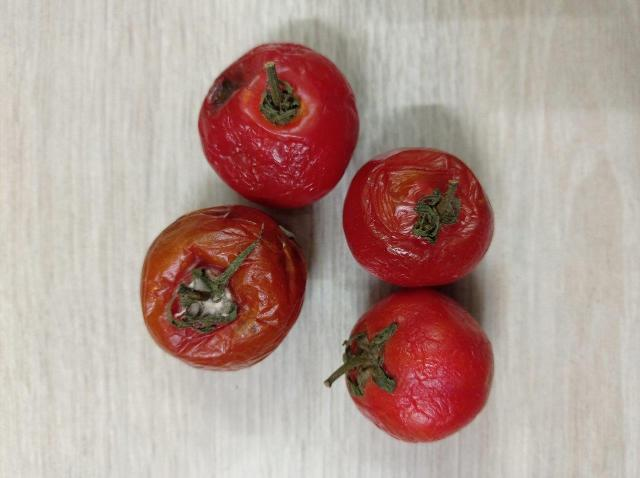defect: (194, 38, 362, 209), (138, 206, 304, 375), (338, 144, 502, 293)
